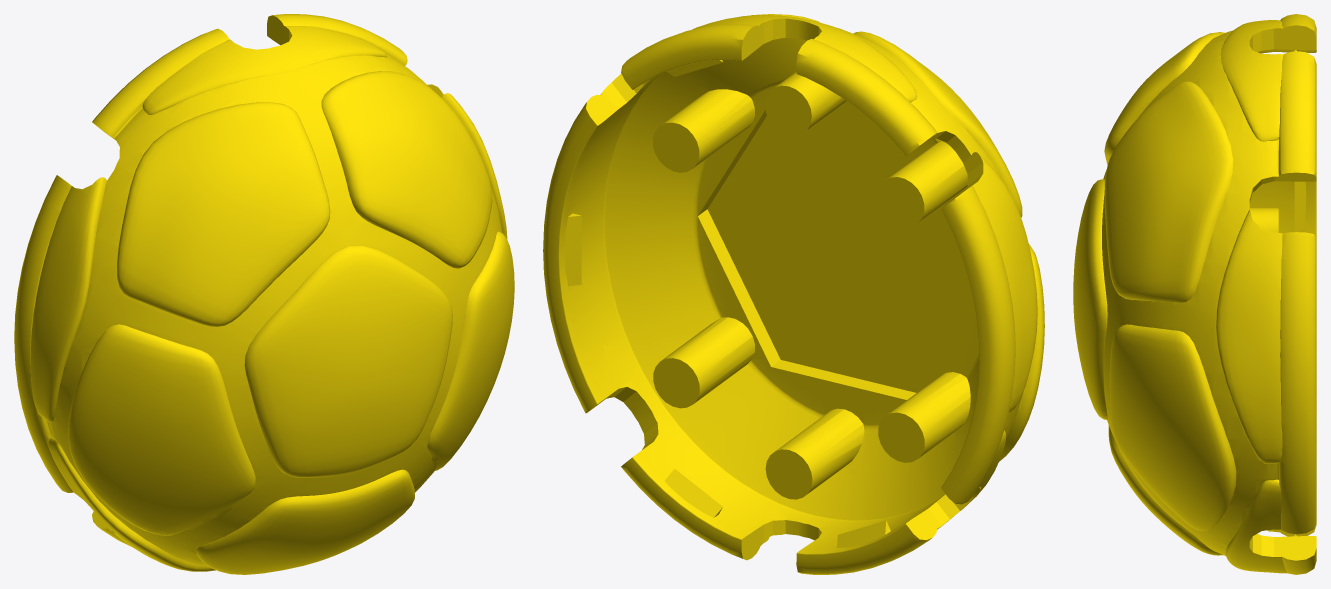
3 renders of one model, left to right at view 1: azimuth 30°, elevation 25°; view 2: azimuth 150°, elevation 25°; view 3: azimuth 270°, elevation 25°, orthographic. The views are drawn at different scales.
Parts seen in each view (by area): view 1: polySurface25; view 2: polySurface25; view 3: polySurface25.
Boxes of the visible parts, box(x1,y1,x2,y2) form: polySurface25: box(14, 14, 514, 574); polySurface25: box(543, 14, 1044, 574); polySurface25: box(1073, 14, 1316, 574).
Bounding box in the file's own units: 41.54 × 45.33 × 19.51.
